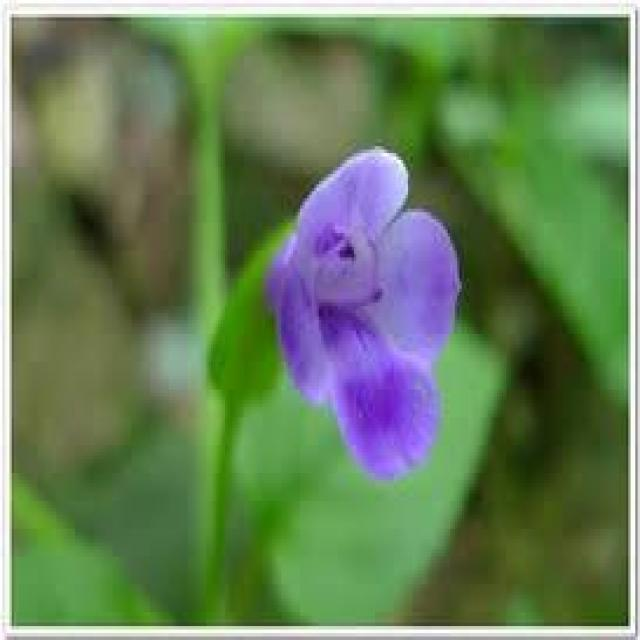organic waste: (261, 136, 475, 494)
